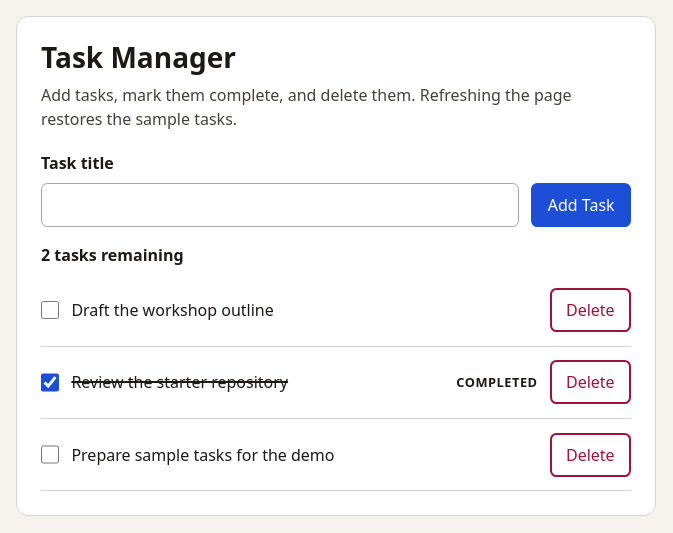
Scenario: Task Manager › marks a task complete and incomplete and updates the remaining count
Click the checkbox labelled "Draft the workshop outline" at coordinates (50, 310), box x1=41 y1=301 x2=59 y2=319
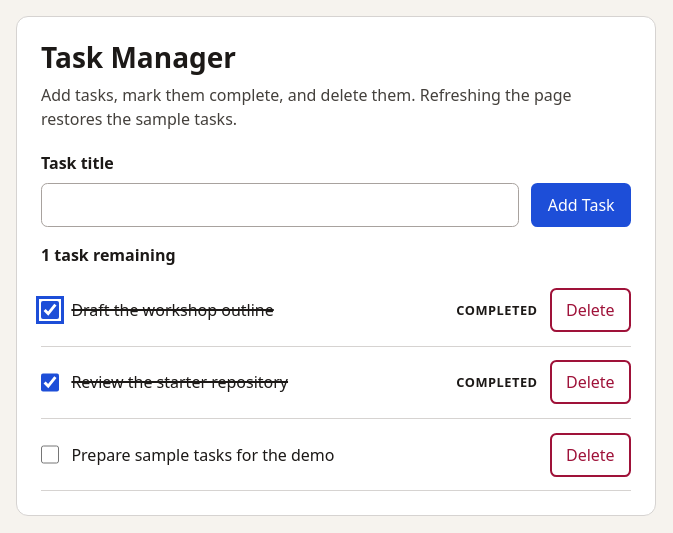
Now the checkbox labelled "Draft the workshop outline" is checked
Now the text "Completed" in the row of "Draft the workshop outline" is shown, box x1=456 y1=301 x2=538 y2=319
Now the text "1 task remaining" is shown, box x1=41 y1=244 x2=176 y2=266
Click the checkbox labelled "Draft the workshop outline" at coordinates (50, 310), box x1=41 y1=301 x2=59 y2=319
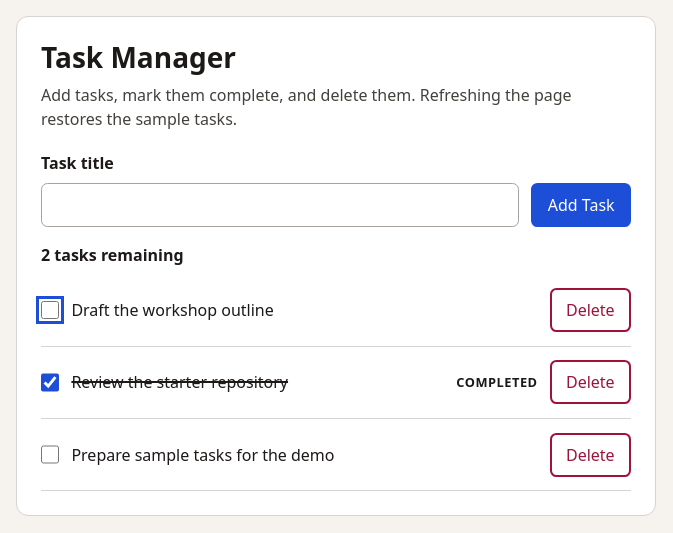
Now the checkbox labelled "Draft the workshop outline" is not checked, box x1=41 y1=301 x2=59 y2=319
Now the text "2 tasks remaining" is shown, box x1=41 y1=244 x2=184 y2=266
